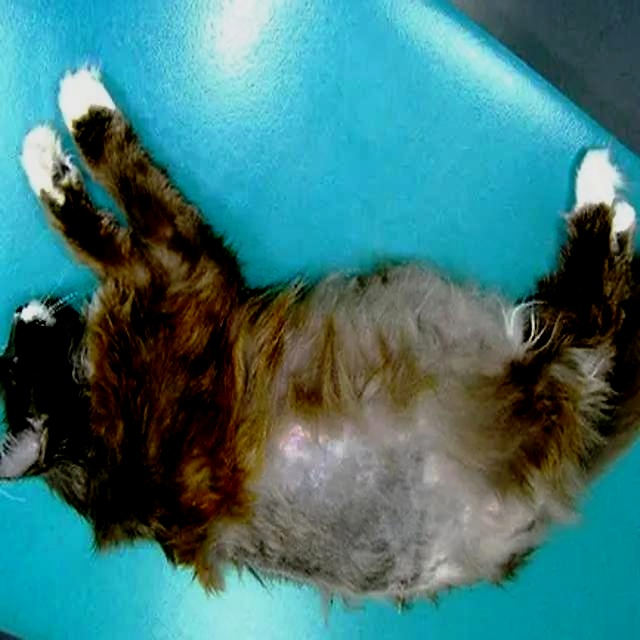hairloss: (244, 449, 530, 583), (302, 288, 502, 379)
